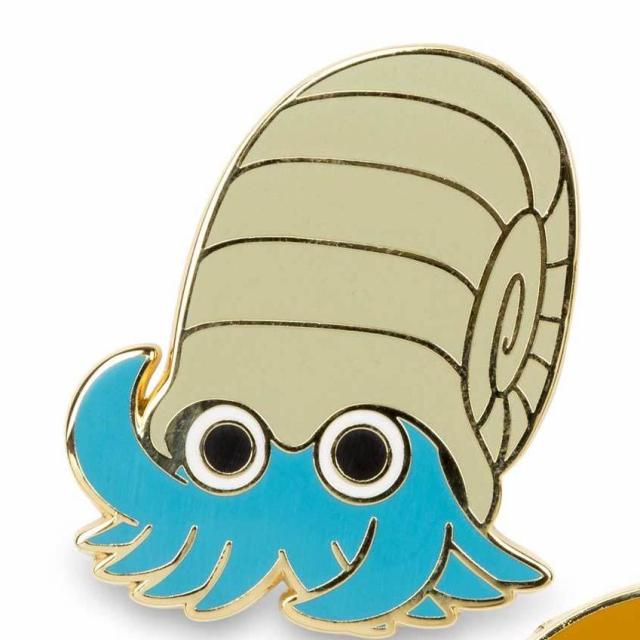Omanyte: (78, 40, 580, 620)
